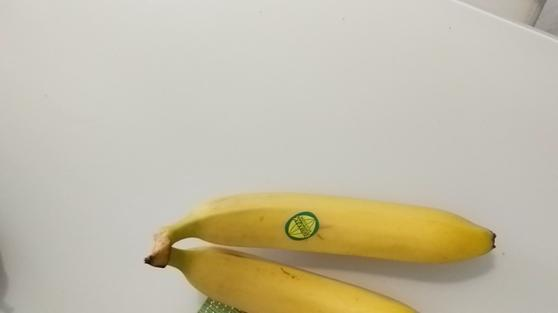banana: (163, 194, 508, 262), (138, 243, 413, 313)
